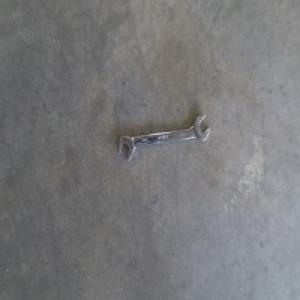Wrench: (118, 113, 211, 161)
